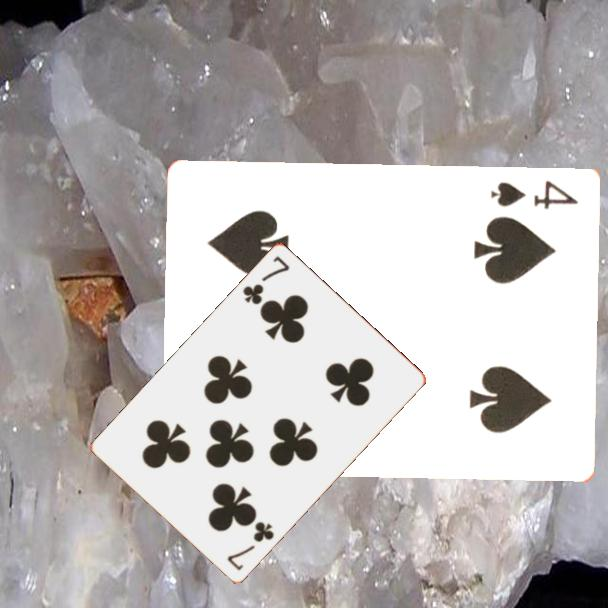c07: (223, 518, 277, 574), (239, 253, 292, 308)
s04: (486, 177, 580, 212)
